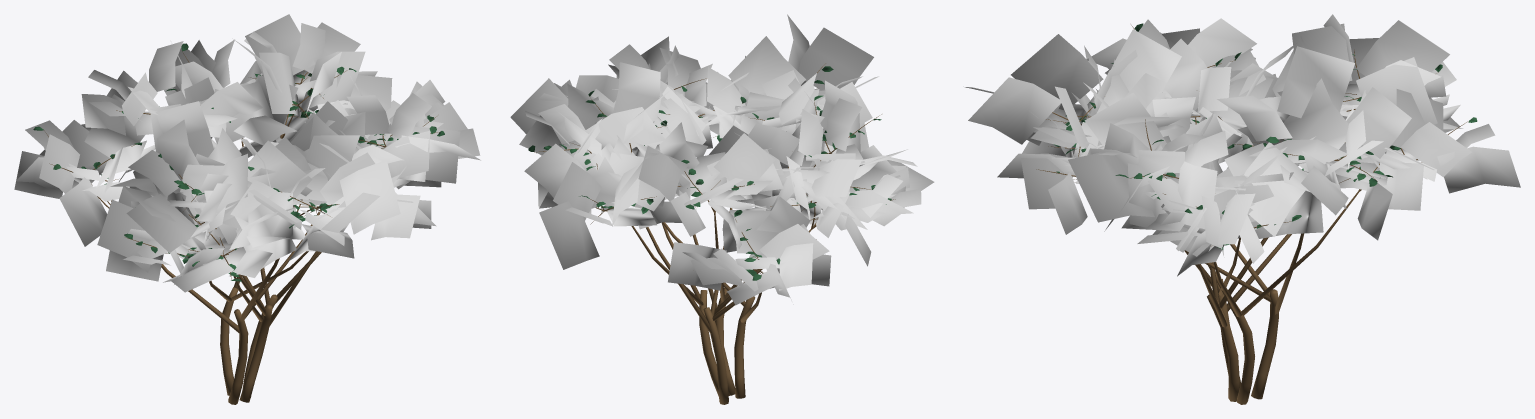
The model's file is V7_Myrte_1_Niveau1.fbx.
3 views of the same model, side by side, from view 1: azimuth 30°, elevation 25°; view 2: azimuth 150°, elevation 25°; view 3: azimuth 270°, elevation 25° (orthographic). The views are drawn at different scales.
Visible parts, largest first — view 1: V7_Myrte_1_Detail1; view 2: V7_Myrte_1_Detail1; view 3: V7_Myrte_1_Detail1.
Part boxes in pixels (x1,y1,x2,y2): V7_Myrte_1_Detail1: [14, 14, 480, 404]; V7_Myrte_1_Detail1: [510, 14, 934, 404]; V7_Myrte_1_Detail1: [965, 14, 1520, 404].
Bounding box in the file's own units: 239 × 197 × 268.
